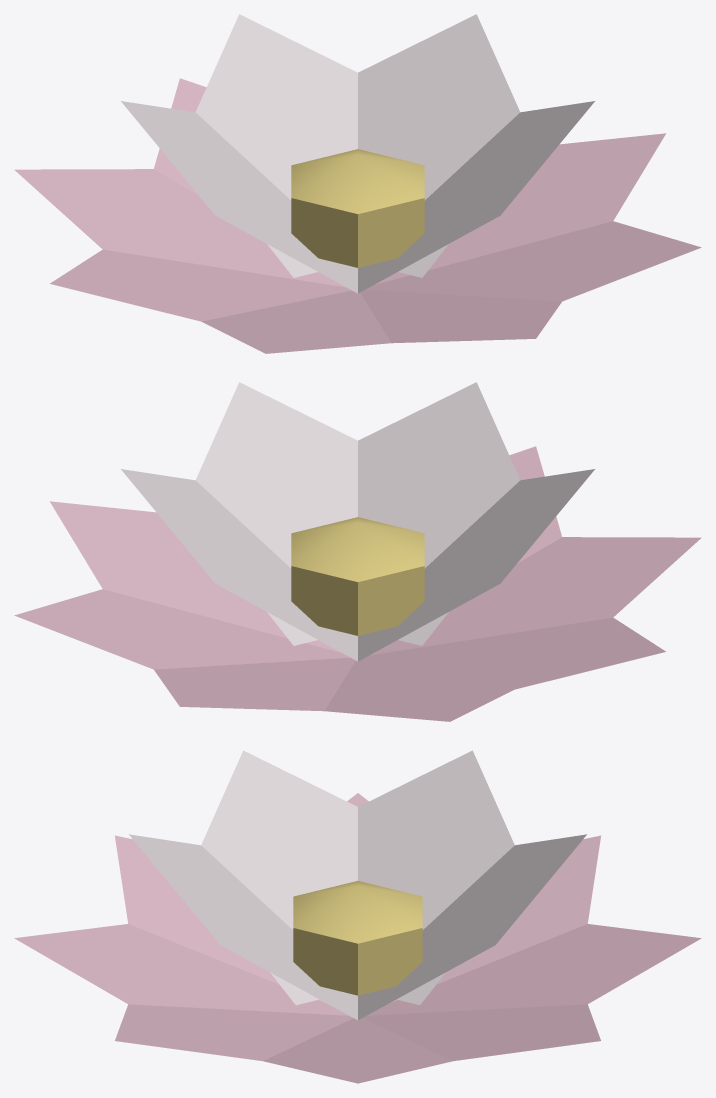
File: lily_flower.gltf
3 renders of one model, top to bottom at view 1: azimuth 30°, elevation 25°; view 2: azimuth 150°, elevation 25°; view 3: azimuth 270°, elevation 25°, orthographic. The views are drawn at different scales.
Visible parts, largest first — view 1: lily_flower; view 2: lily_flower; view 3: lily_flower.
Part boxes in pixels (bbox=[...]): lily_flower: bbox=[14, 14, 701, 353]; lily_flower: bbox=[14, 382, 701, 721]; lily_flower: bbox=[14, 750, 701, 1083].
Size of the model in its own units: 0.24 by 0.07 by 0.24.
